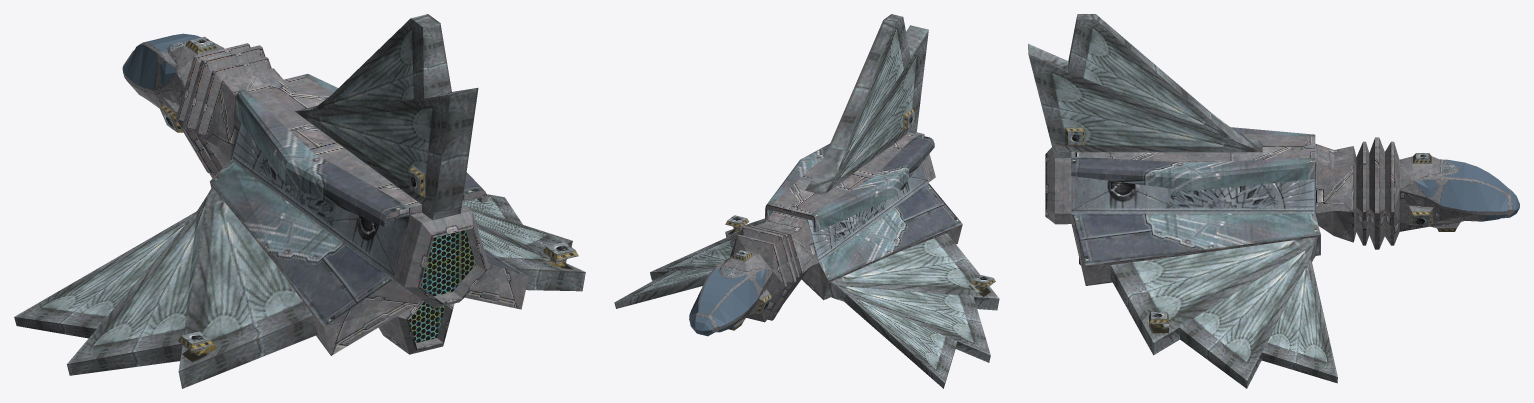
The model's file is S_Defender_Juni.fbx.
3 renders of one model, left to right at view 1: azimuth 30°, elevation 25°; view 2: azimuth 150°, elevation 25°; view 3: azimuth 270°, elevation 25°, orthographic. The views are drawn at different scales.
Parts seen in each view (by area): view 1: Li_elite, Li_port_wing, Li_Spoiler, Li_Engine01, Li_star_wing, Li_Engine02, Li_glass; view 2: Li_elite, Li_port_wing, Li_Spoiler, Li_star_wing, Li_glass; view 3: Li_elite, Li_star_wing, Li_Spoiler, Li_glass, Li_Engine01.
Part boxes in pixels (x1,y1,x2,y2): Li_elite: (123,36,528,355); Li_port_wing: (14,187,317,388); Li_Spoiler: (295,14,478,220); Li_Engine01: (393,203,489,308); Li_star_wing: (462,194,585,291); Li_Engine02: (378,300,454,354); Li_glass: (122,33,201,90); Li_elite: (689,132,962,332); Li_port_wing: (826,233,999,388); Li_Spoiler: (805,14,928,194); Li_star_wing: (614,215,766,308); Li_glass: (689,260,765,336); Li_elite: (1071,127,1514,285); Li_star_wing: (1110,237,1337,388); Li_Spoiler: (1028,14,1262,157); Li_glass: (1416,160,1519,221); Li_Engine01: (1045,147,1071,224).
Bounding box in the file's own units: 443 × 312 × 497.
Materials: 9 (8 with a texture image).
